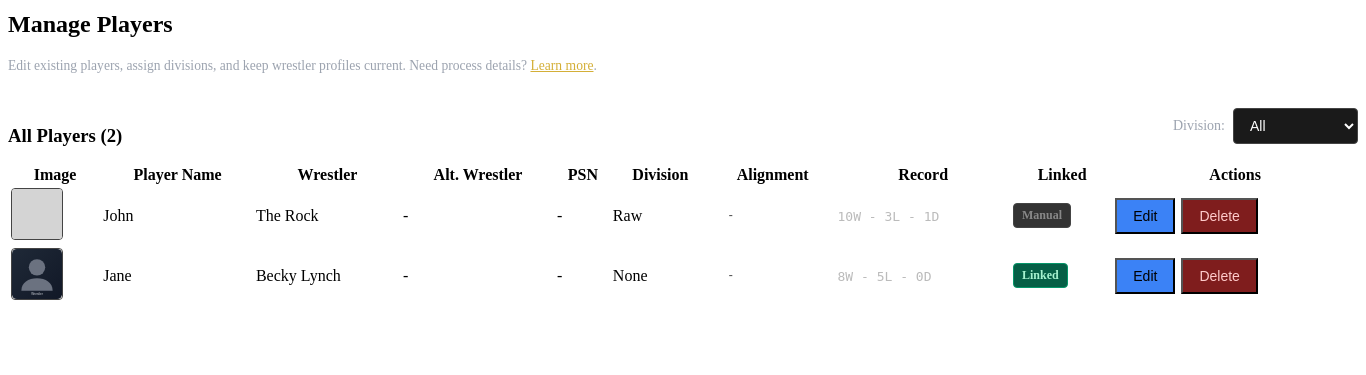
Scenario: ManagePlayers › deletes player with confirmation dialog
Expected: the text "John" is shown, [102, 186, 253, 244]
Click the button "Delete" in the row of "John".
click(1220, 216)  # box [1181, 198, 1258, 234]
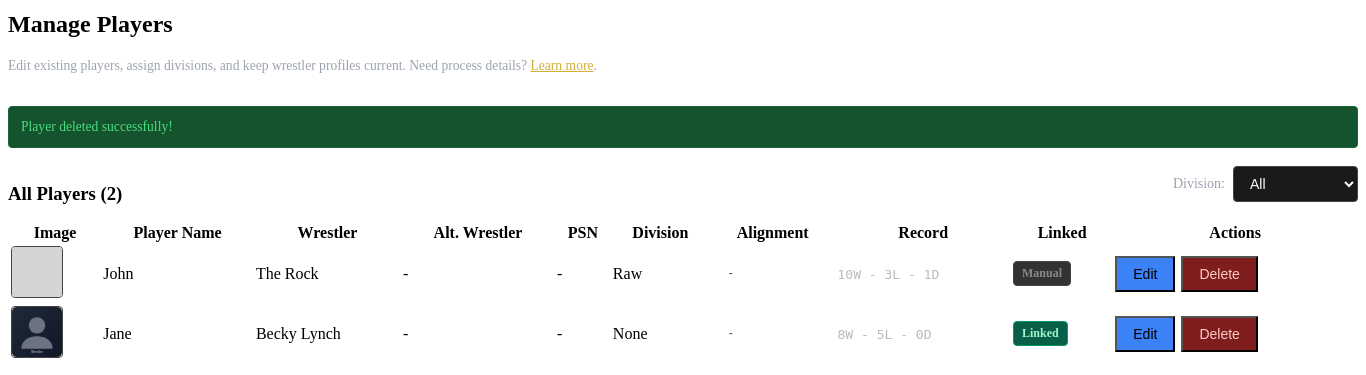
Expected: the text "Player deleted successfully!" is shown, [8, 106, 1358, 148]
